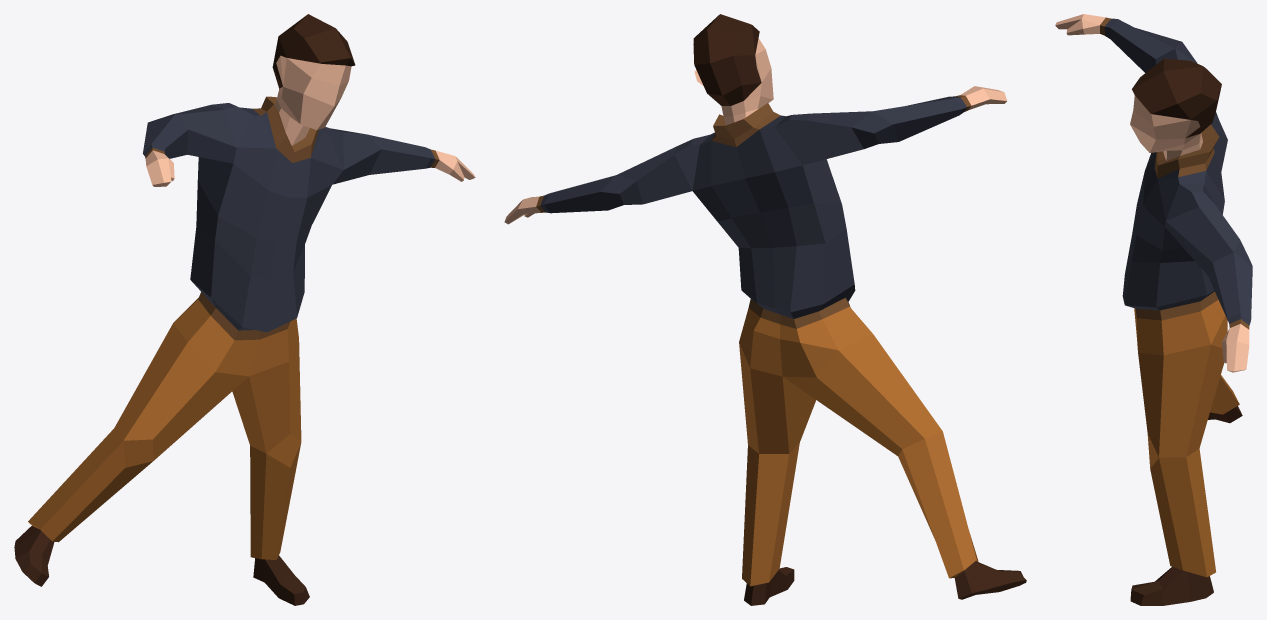
Rendered from AutumnBoy.005.glb.
3 renders of one model, left to right at view 1: azimuth 30°, elevation 25°; view 2: azimuth 150°, elevation 25°; view 3: azimuth 270°, elevation 25°, orthographic. The views are drawn at different scales.
Visible parts, largest first — view 1: AutumnBoy.005; view 2: AutumnBoy.005; view 3: AutumnBoy.005.
Boxes of the visible parts, x1=… form: AutumnBoy.005: x1=14, y1=14, x2=475, y2=605; AutumnBoy.005: x1=504, y1=14, x2=1026, y2=605; AutumnBoy.005: x1=1055, y1=14, x2=1252, y2=605.
Bounding box in the file's own units: 1.36 × 1.5 × 0.4846.
1 material, 1 textured.
